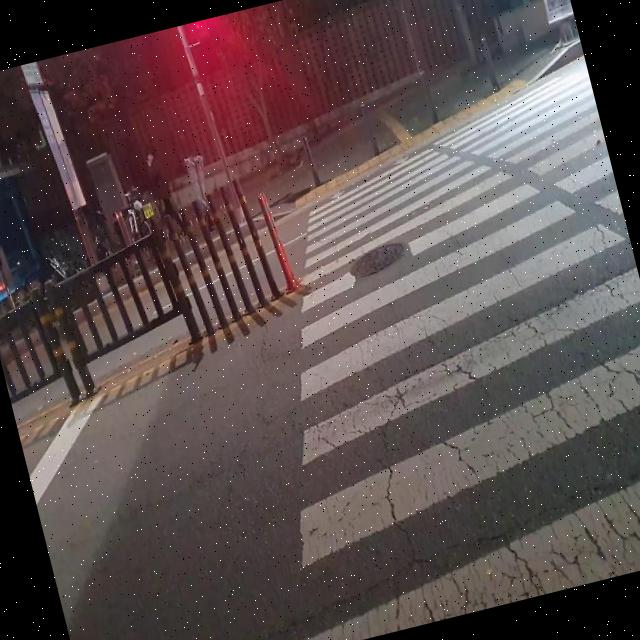crosswalk: (301, 69, 640, 640)
